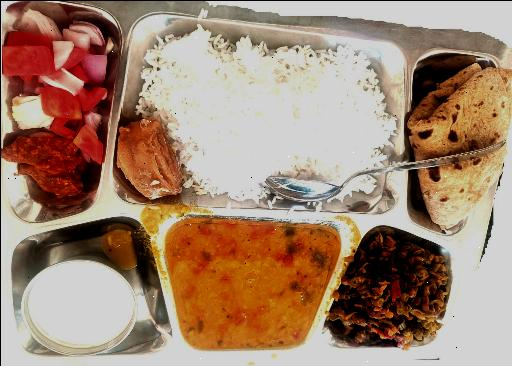Curd: (12, 252, 142, 356)
Dal: (172, 223, 322, 350)
Pickle: (0, 132, 74, 208)
Rice: (113, 30, 397, 196)
Roti: (406, 65, 512, 232)
Salad: (0, 11, 114, 124)
Sweet: (335, 240, 461, 346), (110, 108, 185, 198)
